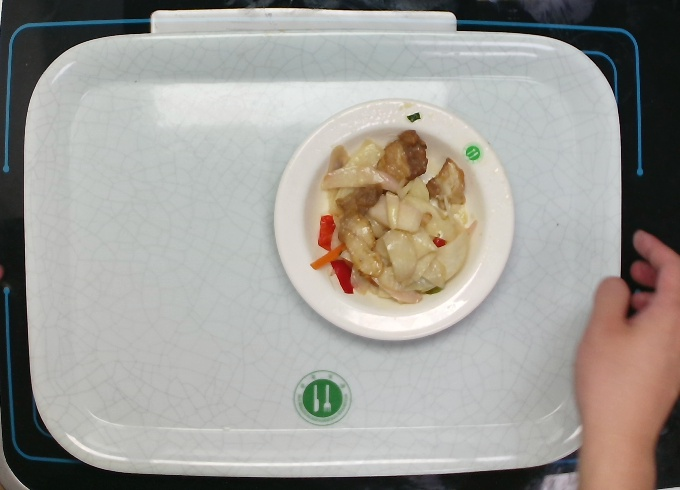WCQzf-Kuan_Bian_Yuan_Die: (268, 94, 520, 346)
